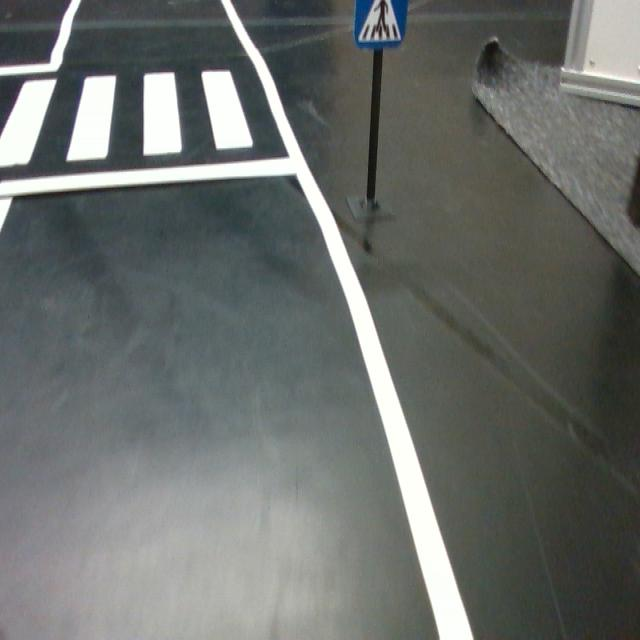crosswalk-sign: (354, 0, 408, 49)
